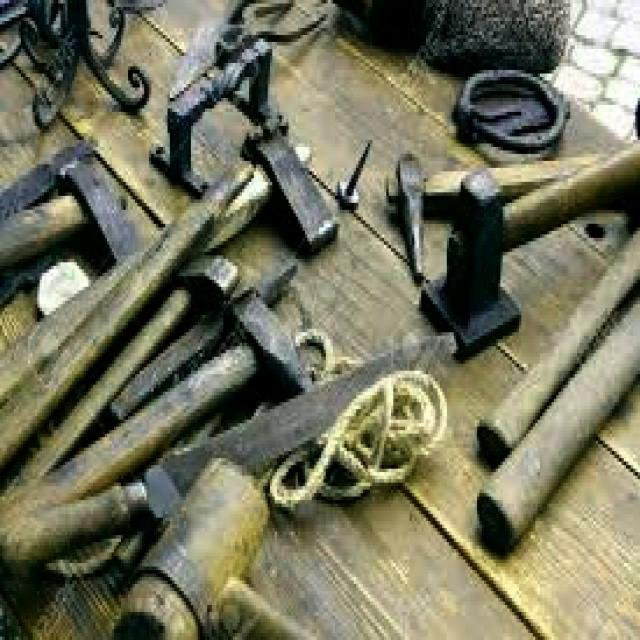hammer: (0, 282, 321, 617), (0, 245, 240, 552), (449, 140, 640, 322), (198, 101, 344, 280), (0, 134, 149, 282)
